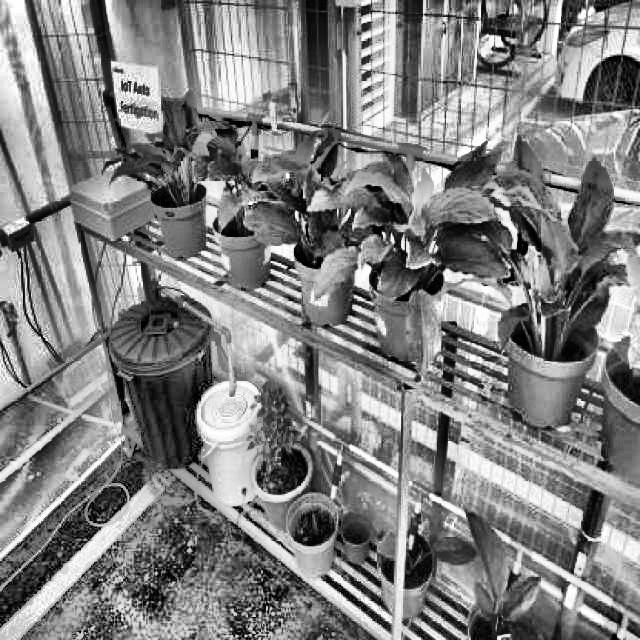plants: (308, 132, 514, 383), (494, 133, 640, 358), (242, 133, 368, 270), (101, 88, 237, 204), (192, 134, 282, 236)
